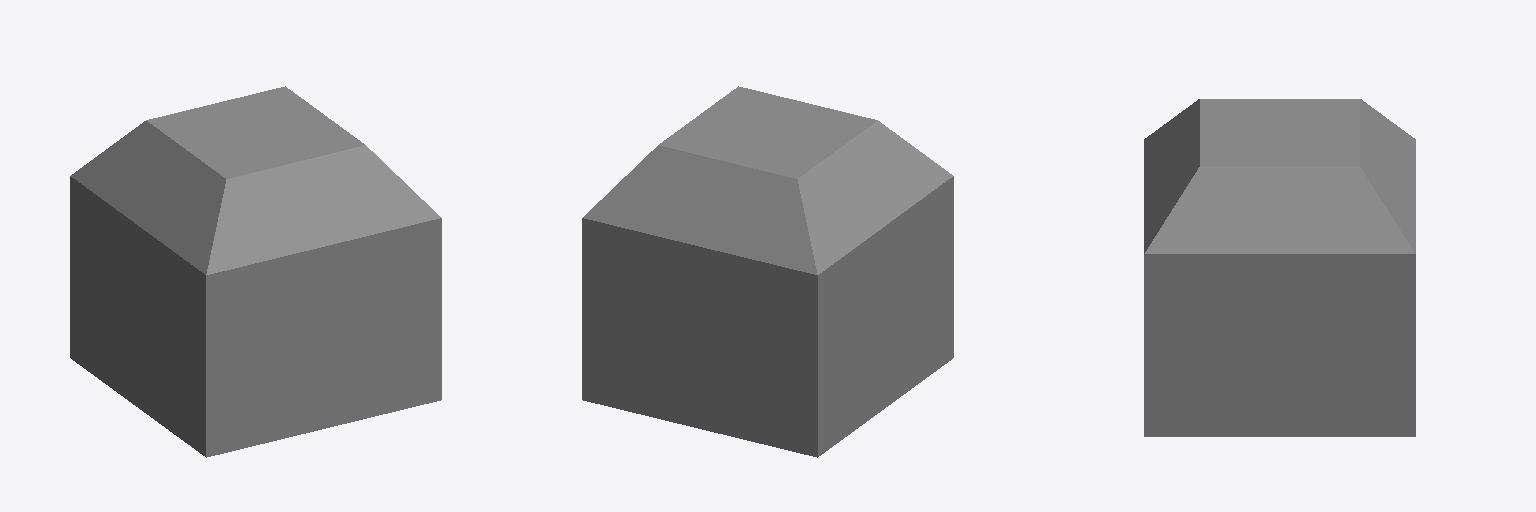
File: Wall.obj
The picture shows the model from 3 angles: view 1: azimuth 30°, elevation 25°; view 2: azimuth 150°, elevation 25°; view 3: azimuth 270°, elevation 25°; orthographic projection.
Parts seen in each view (by area): view 1: Wall_Cube.003; view 2: Wall_Cube.003; view 3: Wall_Cube.003.
Part boxes in pixels (x1,y1,x2,y2): Wall_Cube.003: (70,86,441,457); Wall_Cube.003: (582,86,953,457); Wall_Cube.003: (1144,99,1415,436).
Size of the model in its own units: 2 by 2 by 2.